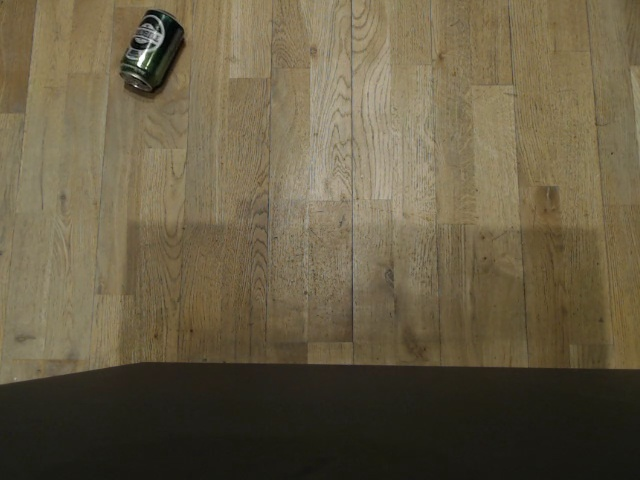beer: (116, 6, 187, 94)
